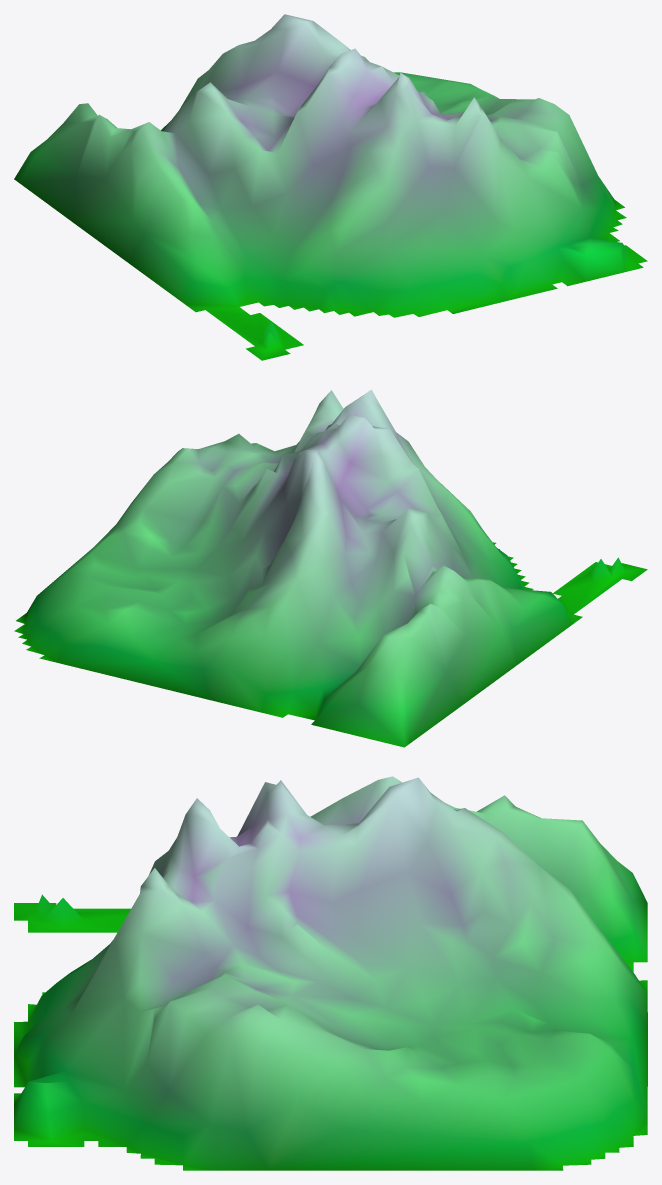
File: mountain_a.glb
3 renders of one model, top to bottom at view 1: azimuth 30°, elevation 25°; view 2: azimuth 150°, elevation 25°; view 3: azimuth 270°, elevation 25°, orthographic. The views are drawn at different scales.
Parts seen in each view (by area): view 1: mountain_a; view 2: mountain_a; view 3: mountain_a.
Boxes of the visible parts, left/top/right/bottom form: mountain_a: left=14, top=14, right=647, bottom=360; mountain_a: left=14, top=389, right=647, bottom=747; mountain_a: left=14, top=776, right=647, bottom=1170.
Size of the model in its own units: 1 by 0.4169 by 1.
